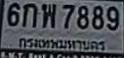6: (7, 2, 19, 25)
7: (62, 3, 74, 28)
8: (76, 4, 88, 28), (91, 5, 103, 29)
9: (106, 5, 118, 30)
A01: (21, 2, 37, 27)
A30: (41, 2, 55, 26)
BKK: (16, 34, 109, 55)
